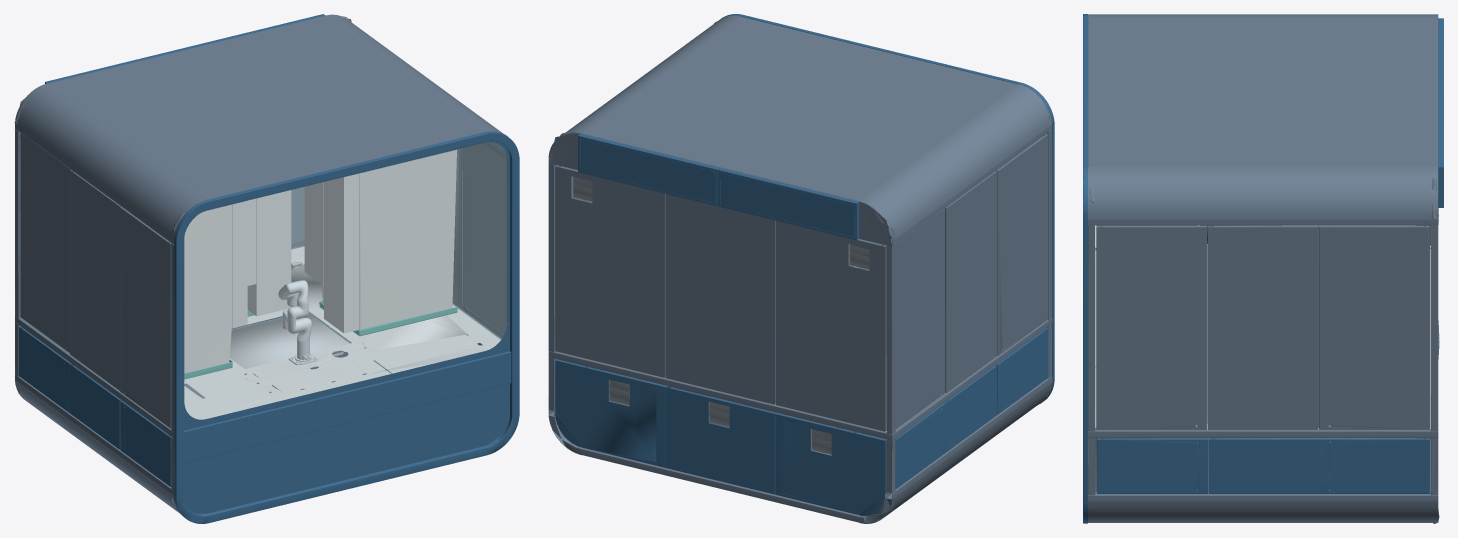
File: kiosk.glb
The picture shows the model from 3 angles, left to right: view 1: azimuth 30°, elevation 25°; view 2: azimuth 150°, elevation 25°; view 3: azimuth 270°, elevation 25°; orthographic projection. The views are drawn at different scales.
Visible parts, largest first — view 1: glass_131_Acrylic_Sheet, frame_26_Top_Frame_M_Default_As_Machined, navy_47_Front_bottom, white_90_dispenser_machine_new, deck_24_Middle_cover_New, navy_48_Front_top, navy_49_front_bottom_extrude, frame_30_Outer_Radius, frame_55_Right_Door_L_N, frame_54_Right_Door_M_N, white_96_dispenser_machine_new, frame_53_Right_Door_R_N (+19 smaller); view 2: frame_26_Top_Frame_M_Default_As_Machined, frame_58_Back_Door_M_N, frame_56_Back_Door_R_N, frame_57_Back_Door_L_N, frame_30_Outer_Radius, frame_55_Right_Door_L_N, frame_54_Right_Door_M_N, frame_53_Right_Door_R_N, navy_69_Back_Door_Bottom_M_N, navy_70_Back_Door_Bottom_R_N, navy_68_Back_Door_Bottom_L_N, navy_38_Mcb_Door_Panel (+12 smaller); view 3: frame_26_Top_Frame_M_Default_As_Machined, frame_51_Right_Door_M_N, frame_52_Right_Door_L_N, frame_50_Right_Door_R_N, frame_29_Outer_Radius, frame_2_Outer_Radius, navy_72_Right_Bottom_Door_M_N, navy_71_Right_Bottom_Door_R_N, navy_73_Right_Bottom_Door_L_n, frame_12_Middle_Frame_M_Default_As_Machined, frame_0_Bottom_Frame_M_Default_As_Machined, navy_48_Front_top (+10 smaller).
Boxes of the visible parts, box(x1,y1,x2,y2) form: glass_131_Acrylic_Sheet: box(184, 142, 506, 419); frame_26_Top_Frame_M_Default_As_Machined: box(14, 15, 507, 244); navy_47_Front_bottom: box(174, 351, 519, 523); white_90_dispenser_machine_new: box(304, 150, 456, 333); deck_24_Middle_cover_New: box(184, 246, 500, 419); navy_48_Front_top: box(174, 131, 519, 434); navy_49_front_bottom_extrude: box(183, 351, 511, 462); frame_30_Outer_Radius: box(15, 83, 206, 238); frame_55_Right_Door_L_N: box(120, 207, 171, 428); frame_54_Right_Door_M_N: box(70, 170, 121, 390); white_96_dispenser_machine_new: box(184, 201, 247, 373); frame_53_Right_Door_R_N: box(20, 133, 70, 352); frame_26_Top_Frame_M_Default_As_Machined: box(548, 16, 1051, 246); frame_58_Back_Door_M_N: box(665, 194, 775, 404); frame_56_Back_Door_R_N: box(776, 221, 886, 431); frame_57_Back_Door_L_N: box(555, 165, 665, 377); frame_30_Outer_Radius: box(860, 84, 1051, 240); frame_55_Right_Door_L_N: box(996, 134, 1048, 355); frame_54_Right_Door_M_N: box(945, 171, 996, 392); frame_53_Right_Door_R_N: box(895, 208, 944, 428); navy_69_Back_Door_Bottom_M_N: box(664, 386, 775, 494); navy_70_Back_Door_Bottom_R_N: box(775, 413, 886, 515); navy_68_Back_Door_Bottom_L_N: box(555, 359, 665, 467); navy_38_Mcb_Door_Panel: box(717, 168, 859, 240); frame_26_Top_Frame_M_Default_As_Machined: box(1088, 18, 1438, 225); frame_51_Right_Door_M_N: box(1207, 225, 1318, 429); frame_52_Right_Door_L_N: box(1319, 225, 1429, 429); frame_50_Right_Door_R_N: box(1096, 225, 1206, 429); frame_29_Outer_Radius: box(1088, 166, 1438, 218); frame_2_Outer_Radius: box(1088, 502, 1438, 522); navy_72_Right_Bottom_Door_M_N: box(1208, 438, 1319, 493); navy_71_Right_Bottom_Door_R_N: box(1319, 438, 1429, 493); navy_73_Right_Bottom_Door_L_n: box(1097, 438, 1207, 493); frame_12_Middle_Frame_M_Default_As_Machined: box(1088, 247, 1438, 437); frame_0_Bottom_Frame_M_Default_As_Machined: box(1088, 320, 1439, 523); navy_48_Front_top: box(1083, 14, 1087, 431).
Size of the model in its own units: 2.89 by 2.58 by 2.39.
